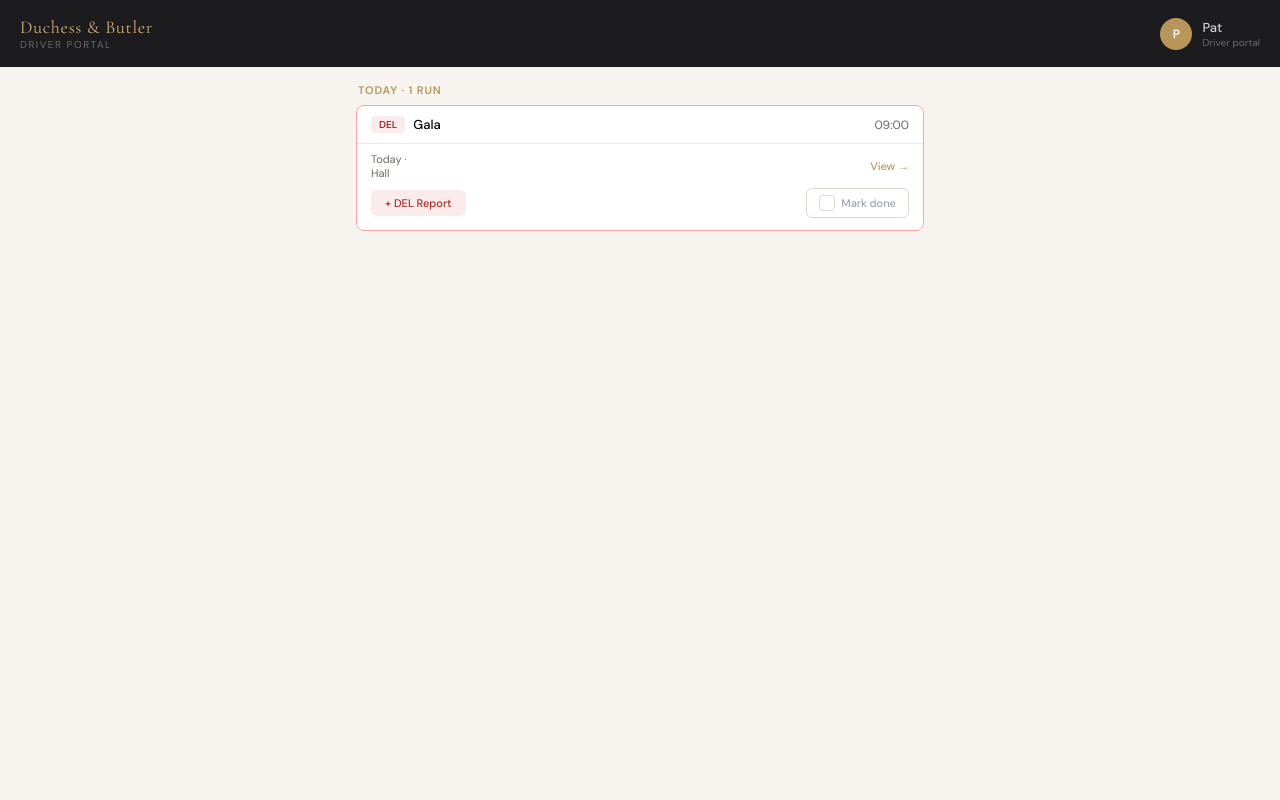
Test: DriverPortal reportMode photo upload v1 › reportMode remains MODE_B and file selection still creates a local draft path
The width and height of the screenshot is (1280, 800).
Click the button "+ DEL Report". click: (418, 203)
box: [371,190,466,216]
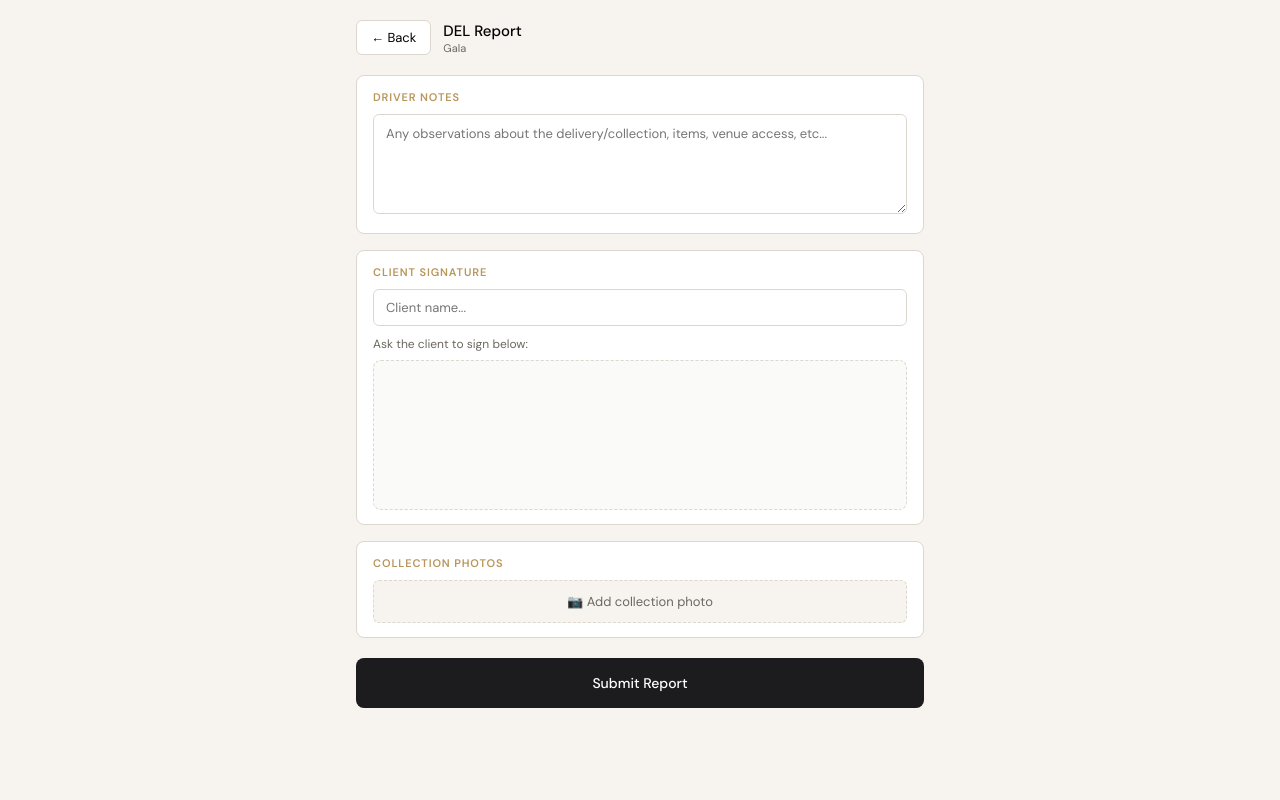
expect the file field with test id "driver-report-mode-photo-input" is shown: met, box [373,580,907,623]
